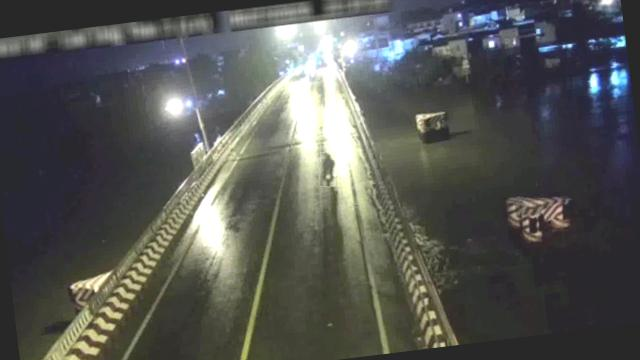Bike: (316, 150, 339, 188)
